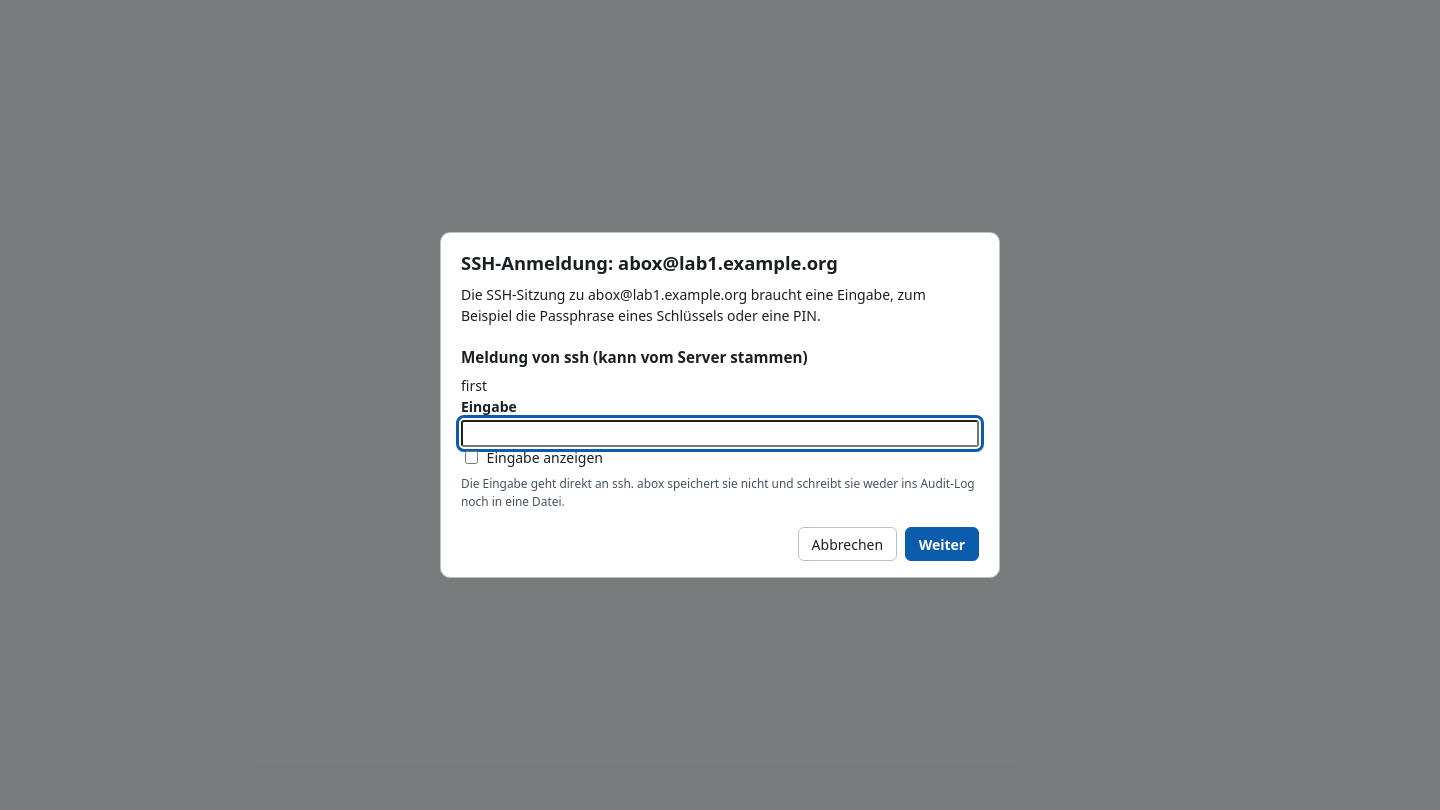
Test case: ssh passphrase dialog › queues prompts: one dialog at a time, in order
This screenshot has width=1440, height=810.
Expected: the dialog shows "first", x1=461 y1=376 x2=487 y2=395
Type "a" into the password field labelled "Eingabe". click: point(720, 433)
box: x1=461 y1=420 x2=979 y2=447
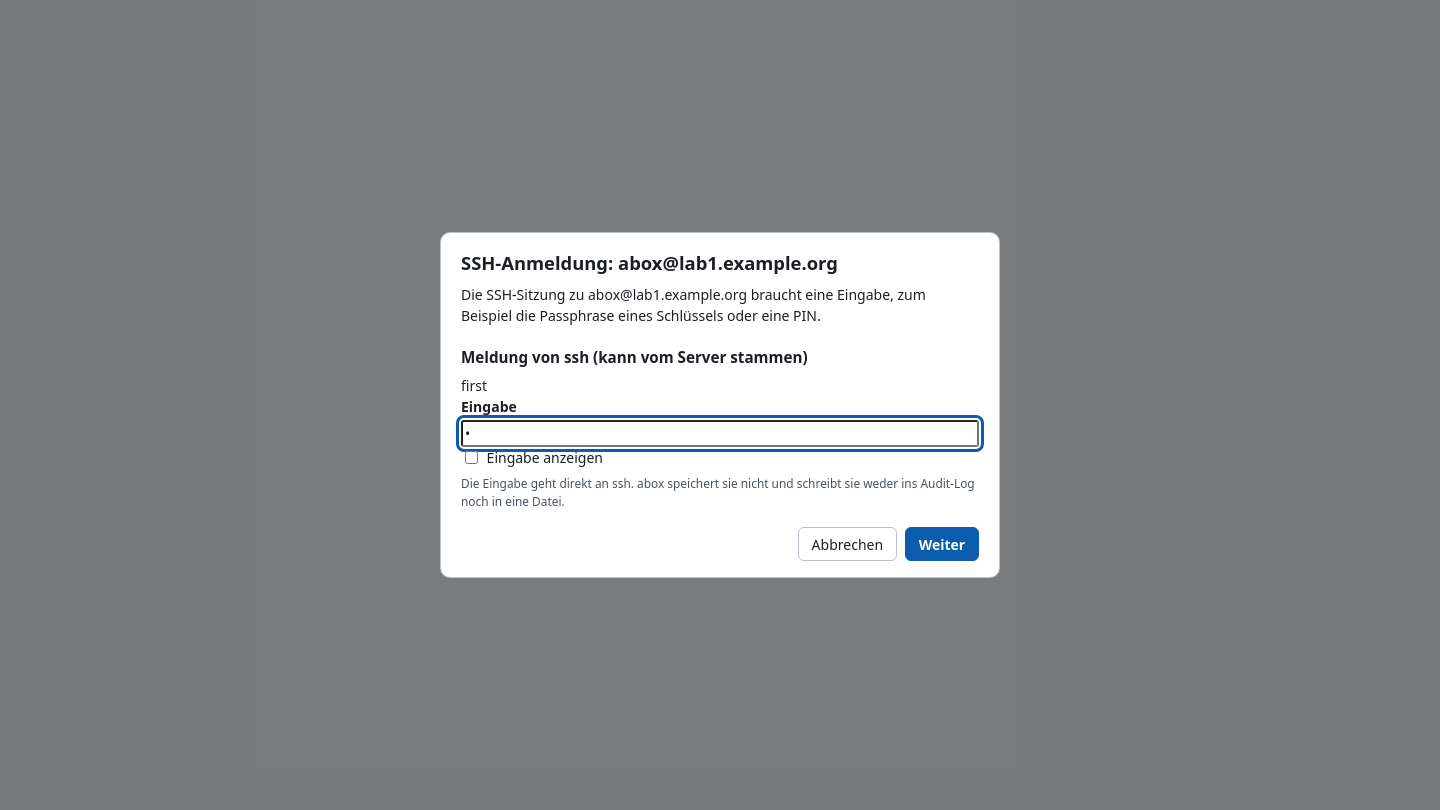
Click the button "Weiter". click: point(942, 544)
box: x1=905 y1=527 x2=979 y2=561
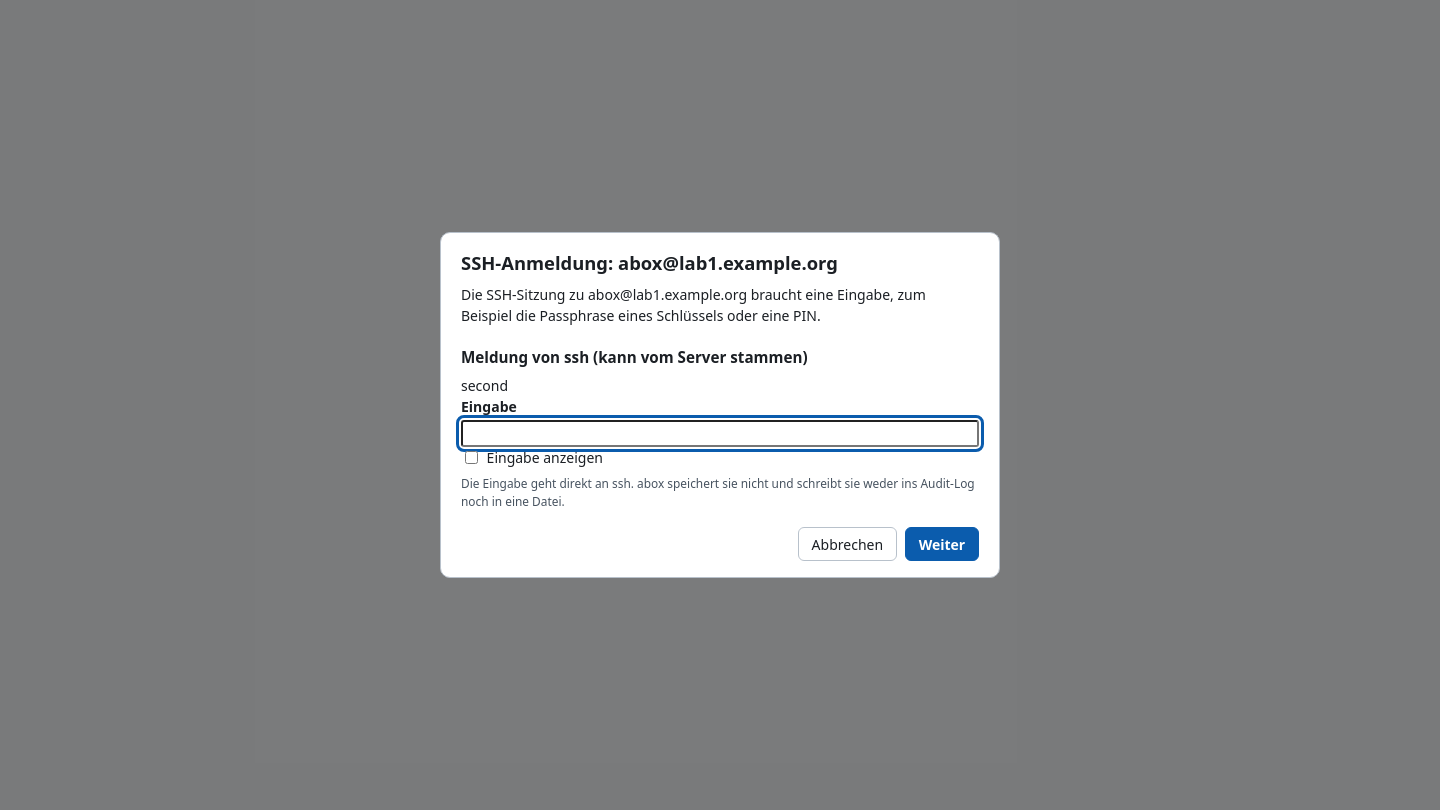
Now the dialog shows "second", box x1=461 y1=376 x2=508 y2=395
